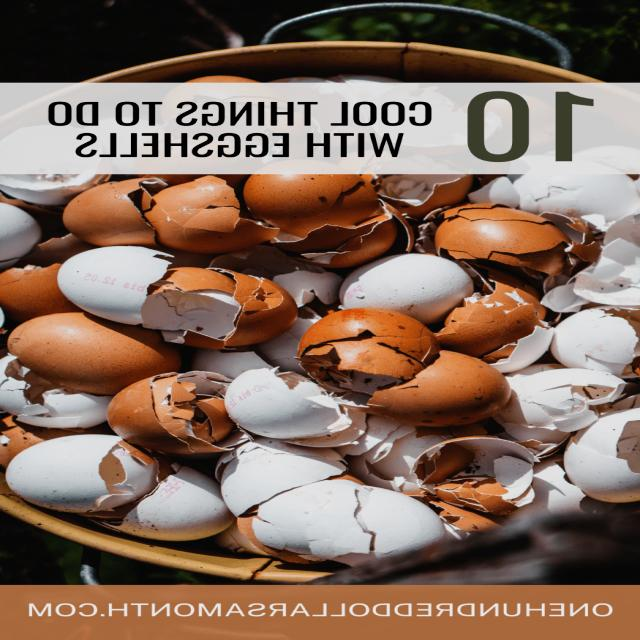wet: (369, 347, 523, 432), (6, 316, 182, 390), (248, 492, 426, 564), (106, 280, 282, 351), (5, 434, 158, 513), (292, 308, 440, 385), (106, 371, 237, 453), (152, 80, 283, 161), (104, 463, 236, 540), (424, 207, 564, 275), (410, 434, 542, 506), (156, 175, 277, 253), (339, 254, 476, 322), (227, 443, 353, 516), (230, 367, 352, 441), (518, 370, 640, 437), (434, 291, 550, 360), (279, 204, 405, 267), (64, 176, 172, 248), (244, 173, 376, 230), (218, 244, 338, 302), (354, 425, 462, 489), (564, 411, 640, 497), (516, 174, 639, 224), (549, 310, 640, 374), (0, 263, 85, 321), (523, 459, 597, 519), (376, 175, 474, 217), (15, 388, 116, 428), (196, 341, 276, 382), (511, 156, 636, 180), (1, 200, 44, 269), (572, 145, 639, 172), (504, 362, 566, 376)
